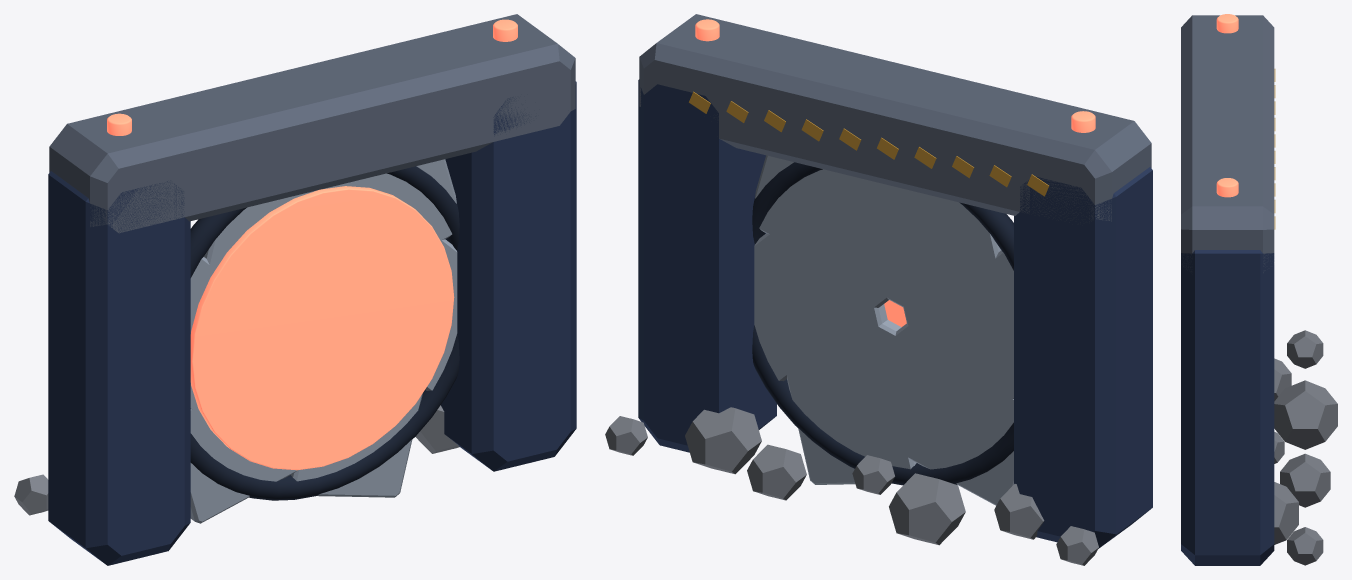
Rendered from shared_spawn_portal.glb.
The picture shows the model from 3 angles, left to right: view 1: azimuth 30°, elevation 25°; view 2: azimuth 150°, elevation 25°; view 3: azimuth 270°, elevation 25°; orthographic projection. The views are drawn at different scales.
Parts seen in each view (by area): view 1: portal_lintel, portal_glow, portal_pier-1, portal_pier1, portal_ring, portal_iris4, portal_iris5, portal_iris1, portal_iris2, portal_iris0, portal_rubble0, portal_rubble5 (+1 smaller); view 2: portal_lintel, portal_pier-1, portal_pier1, portal_iris0, portal_iris4, portal_iris2, portal_iris5, portal_iris3, portal_iris1, portal_ring, portal_rubble2, portal_rubble5 (+6 smaller); view 3: portal_pier1, portal_lintel, portal_rubble2, portal_rubble4, portal_rubble5, portal_rubble0, portal_rubble6, portal_rubble1, portal_siren_lamp1, portal_siren_lamp-1, portal_rubble3, portal_hazard.
Part boxes in pixels (x1=…): portal_lintel: x1=49, y1=14, x2=575, y2=233; portal_glow: x1=190, y1=186, x2=454, y2=470; portal_pier-1: x1=48, y1=171, x2=190, y2=565; portal_pier1: x1=441, y1=81, x2=576, y2=471; portal_ring: x1=190, y1=166, x2=459, y2=500; portal_iris4: x1=190, y1=407, x2=297, y2=523; portal_iris5: x1=291, y1=393, x2=422, y2=497; portal_iris1: x1=316, y1=159, x2=456, y2=240; portal_iris2: x1=204, y1=191, x2=314, y2=290; portal_iris0: x1=425, y1=239, x2=457, y2=390; portal_rubble0: x1=14, y1=474, x2=48, y2=515; portal_rubble5: x1=415, y1=405, x2=459, y2=453; portal_lintel: x1=639, y1=14, x2=1151, y2=222; portal_pier-1: x1=1014, y1=167, x2=1152, y2=548; portal_pier1: x1=638, y1=79, x2=776, y2=452; portal_iris0: x1=754, y1=200, x2=888, y2=381; portal_iris4: x1=847, y1=320, x2=1013, y2=505; portal_iris2: x1=875, y1=182, x2=1010, y2=328; portal_iris5: x1=779, y1=304, x2=916, y2=484; portal_iris3: x1=895, y1=250, x2=1013, y2=432; portal_iris1: x1=755, y1=155, x2=933, y2=307; portal_ring: x1=752, y1=162, x2=1013, y2=485; portal_rubble2: x1=889, y1=473, x2=965, y2=545; portal_rubble5: x1=685, y1=407, x2=761, y2=474; portal_pier1: x1=1181, y1=250, x2=1274, y2=565; portal_lintel: x1=1181, y1=15, x2=1274, y2=272; portal_rubble2: x1=1274, y1=380, x2=1337, y2=449; portal_rubble4: x1=1280, y1=453, x2=1330, y2=507; portal_rubble5: x1=1274, y1=482, x2=1298, y2=544; portal_rubble0: x1=1287, y1=330, x2=1323, y2=368; portal_rubble6: x1=1287, y1=527, x2=1323, y2=565; portal_rubble1: x1=1274, y1=358, x2=1291, y2=401; portal_siren_lamp1: x1=1216, y1=178, x2=1238, y2=197; portal_siren_lamp-1: x1=1216, y1=14, x2=1238, y2=33; portal_rubble3: x1=1274, y1=432, x2=1284, y2=463; portal_hazard: x1=1274, y1=69, x2=1275, y2=229.
Size of the model in its own units: 6.47 by 5.49 by 2.02.
